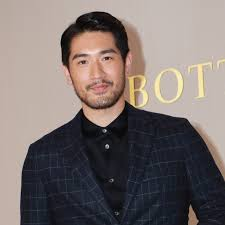bare: (68, 69, 127, 108)
